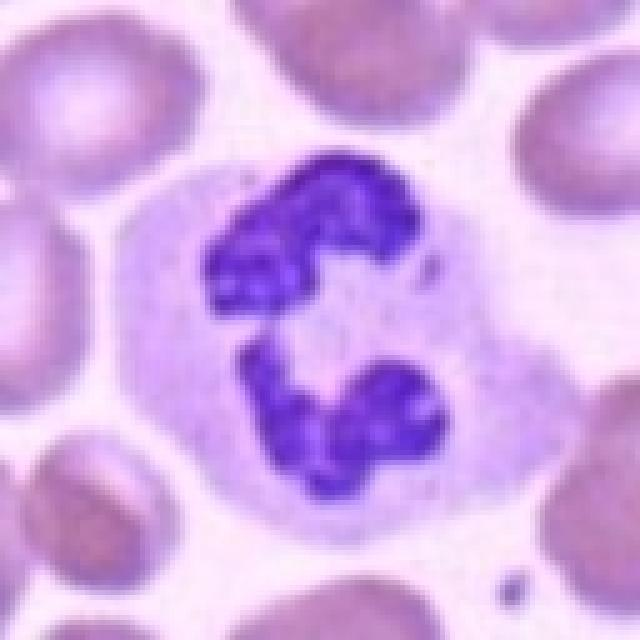neutro: (144, 176, 485, 506)
